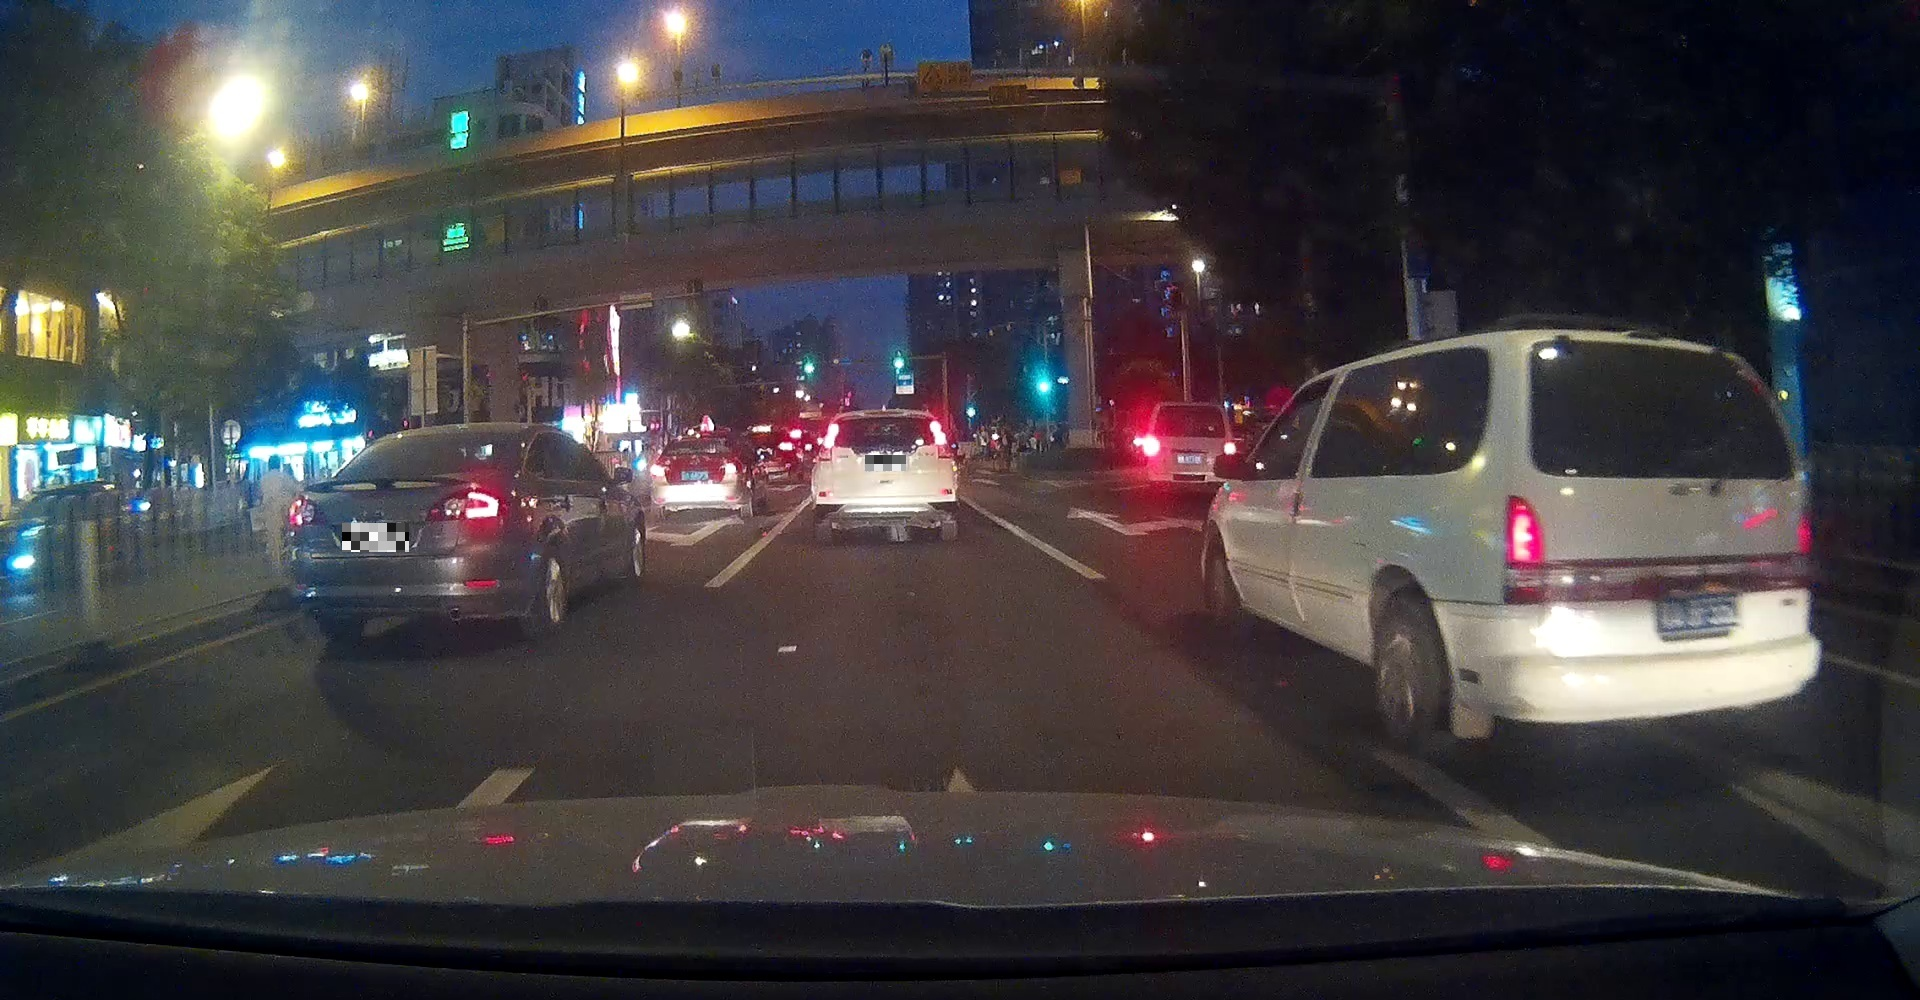L_light: (1503, 495, 1545, 607), (288, 495, 329, 527), (818, 423, 839, 459), (1144, 434, 1158, 459), (649, 463, 670, 476)
R_light: (424, 486, 509, 523), (1792, 505, 1818, 588), (930, 420, 952, 458), (717, 459, 745, 475), (1222, 437, 1237, 463)
T_light: (1627, 346, 1691, 363), (863, 411, 904, 415), (1183, 405, 1201, 410), (688, 439, 709, 443)
day-no: (424, 433, 461, 439)
night-no: (1500, 329, 1820, 758), (287, 423, 522, 640), (811, 409, 959, 544), (1143, 404, 1238, 494), (649, 434, 745, 522)
plate_1: (342, 523, 409, 552)
plate_2: (865, 456, 905, 471)
